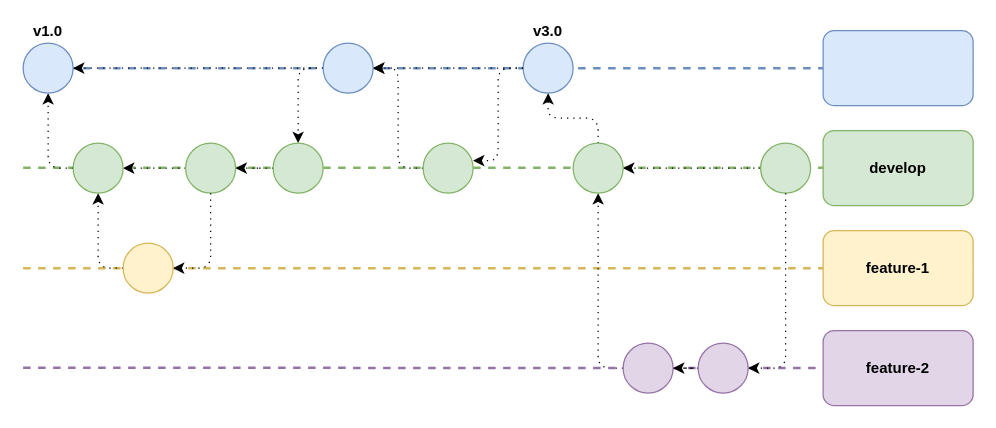
Some shapes in this 996 by 428 pixel diagram are drawn without their labels. Here are the shapes that lost their labels. From the top down, the box of each, then its label:
(322, 42, 373, 93): v2.0
(822, 29, 973, 106): main
